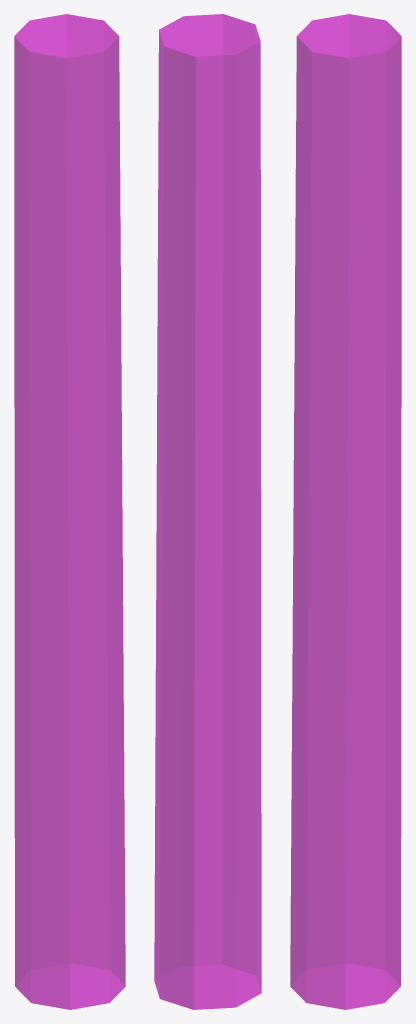
File: SM_Veh_Ship_L_Mast_Back_01_Base_01_Collision.fbx
3 views of the same model, side by side, from view 1: azimuth 90°, elevation 25°; view 2: azimuth 210°, elevation 25°; view 3: azimuth 270°, elevation 25° (orthographic).
Visible parts, largest first — view 1: SM_Veh_Ship_L_Mast_Back_01_Base_01_Collision; view 2: SM_Veh_Ship_L_Mast_Back_01_Base_01_Collision; view 3: SM_Veh_Ship_L_Mast_Back_01_Base_01_Collision.
Part boxes in pixels (left/top/right/bottom): SM_Veh_Ship_L_Mast_Back_01_Base_01_Collision: left=14, top=14, right=125, bottom=1009; SM_Veh_Ship_L_Mast_Back_01_Base_01_Collision: left=154, top=14, right=261, bottom=1009; SM_Veh_Ship_L_Mast_Back_01_Base_01_Collision: left=290, top=14, right=401, bottom=1009.
Size of the model in its own units: 110 by 1036 by 110.
